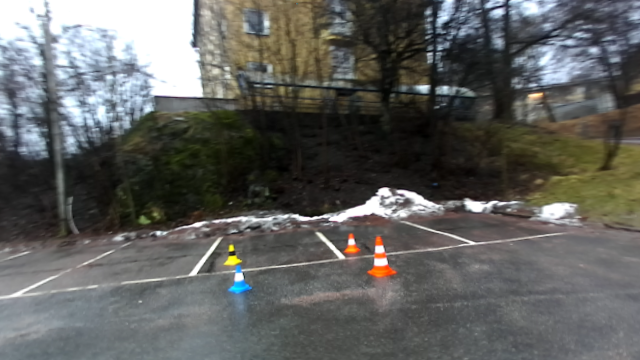blue: (225, 265, 252, 296)
orange: (342, 230, 360, 257)
orange2: (367, 233, 397, 280)
yellow: (224, 242, 242, 267)
